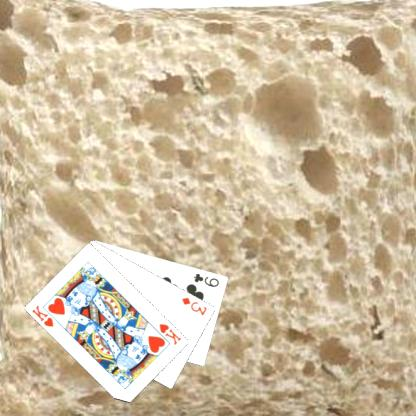3D: (179, 294, 209, 317)
9C: (191, 270, 221, 288)
KH: (156, 320, 183, 346), (30, 302, 56, 329)
